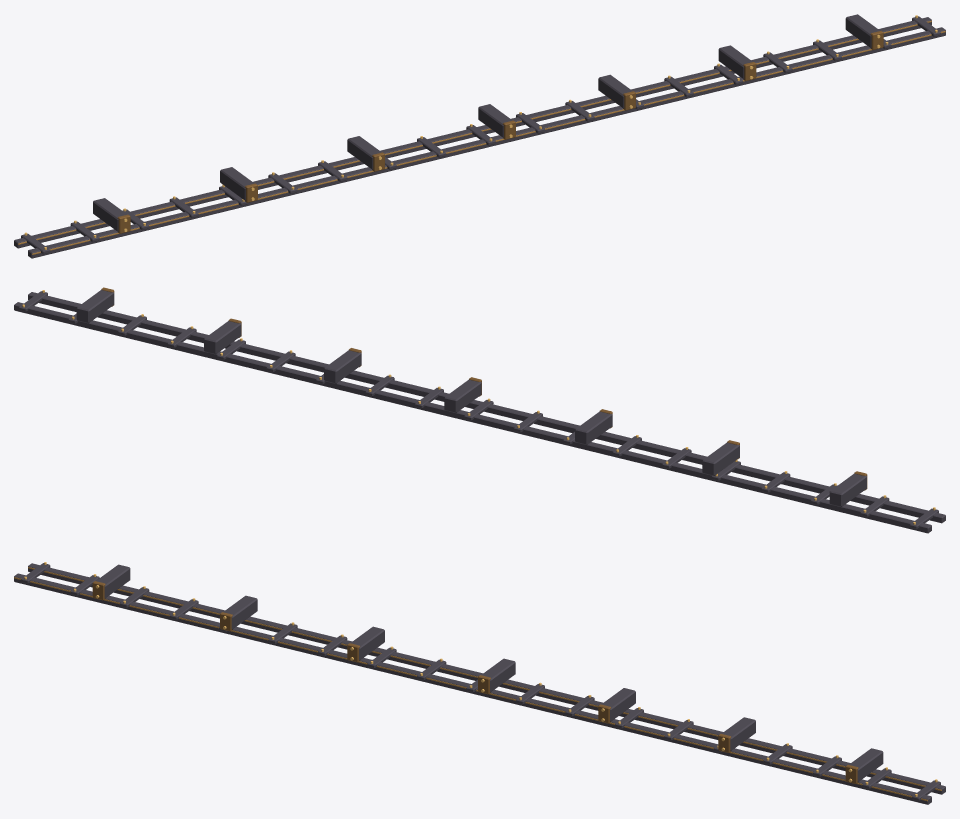
Rendered from SM_Vault_FlyRail.fbx.
3 renders of one model, top to bottom at view 1: azimuth 30°, elevation 25°; view 2: azimuth 150°, elevation 25°; view 3: azimuth 330°, elevation 25°, orthographic.
Parts seen in each view (by area): view 1: SM_Vault_FlyRail; view 2: SM_Vault_FlyRail; view 3: SM_Vault_FlyRail.
Part boxes in pixels (x1=…): SM_Vault_FlyRail: x1=14, y1=14, x2=945, y2=258; SM_Vault_FlyRail: x1=14, y1=287, x2=945, y2=533; SM_Vault_FlyRail: x1=14, y1=562, x2=945, y2=804.
Bounding box in the file's own units: 2588 × 134 × 64.
